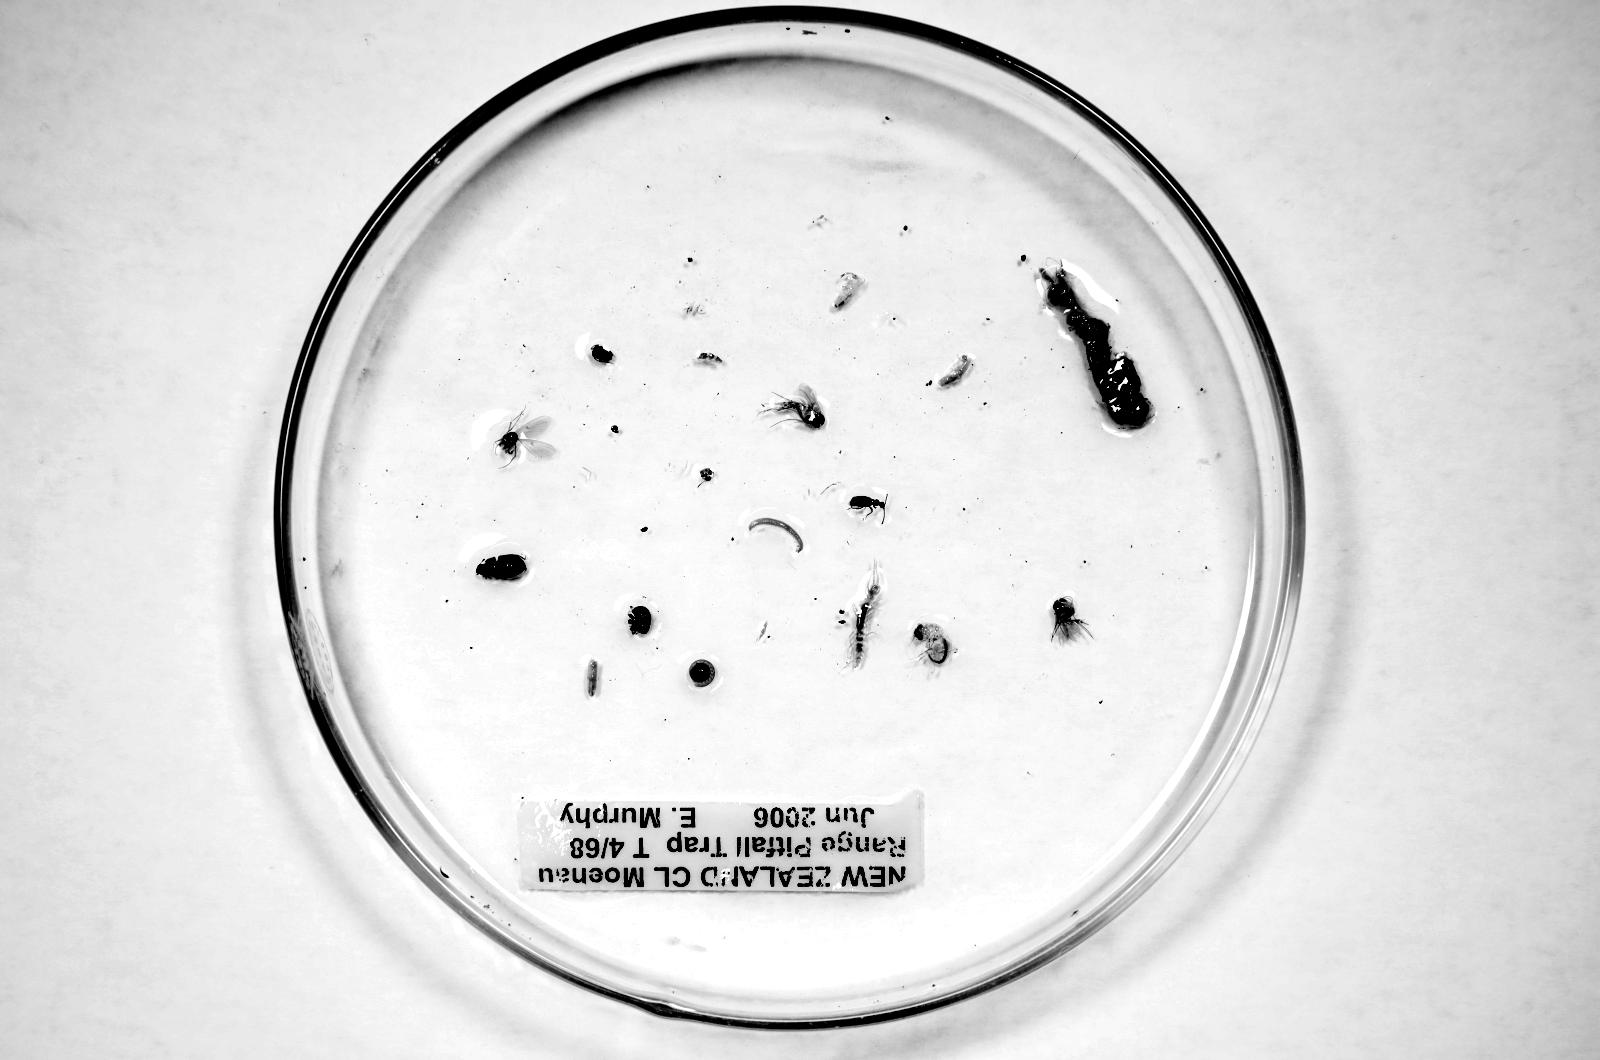amphipoda: (912, 622, 952, 666)
chilopoda: (848, 565, 881, 667)
coleoptera: (477, 554, 527, 580), (848, 495, 886, 516), (628, 605, 653, 635)
diplopoda: (739, 510, 804, 552)
diptera: (763, 383, 825, 428), (498, 416, 555, 459), (1051, 595, 1090, 644)
gastropoda: (688, 659, 715, 687)
